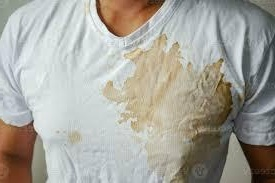coffee: (117, 50, 232, 183), (66, 130, 82, 146)
